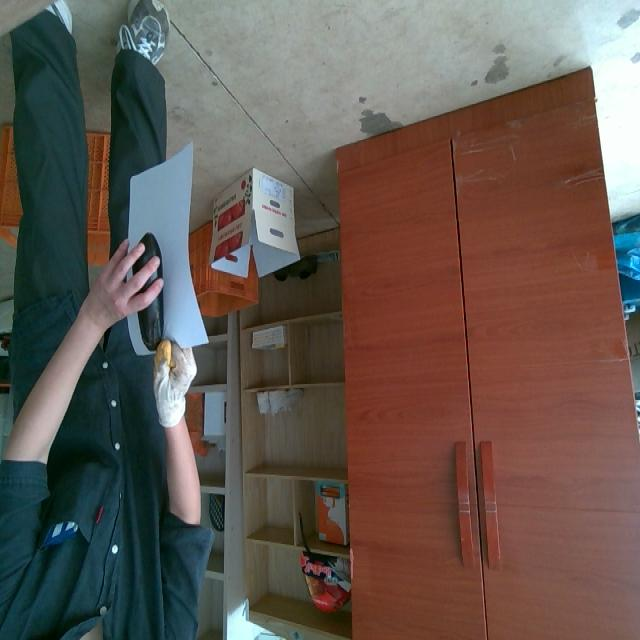Egg plant: (139, 293, 163, 352), (134, 235, 162, 279)
